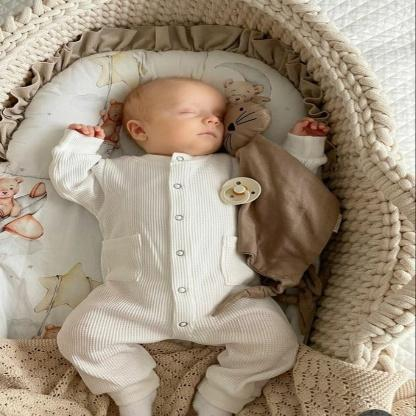baby: (48, 76, 327, 415)
